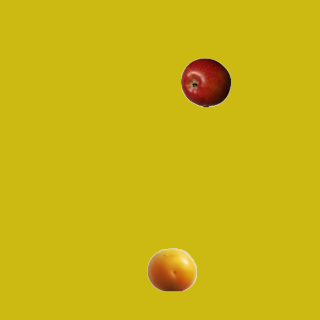Apple Braeburn: (180, 57, 230, 107)
Cherry Wax Yellow: (146, 244, 196, 294)
